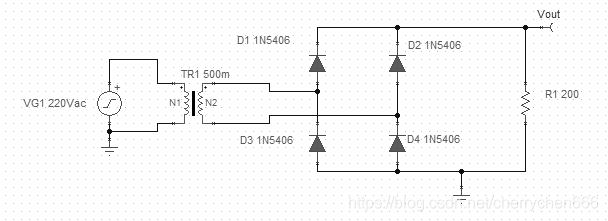diode: (307, 129, 328, 158), (386, 51, 409, 77), (387, 133, 408, 155), (308, 51, 326, 75)
gnd: (452, 191, 473, 206), (100, 143, 119, 156)
power1: (97, 81, 123, 120)
res2: (518, 82, 533, 126)
trans: (179, 79, 207, 126)
